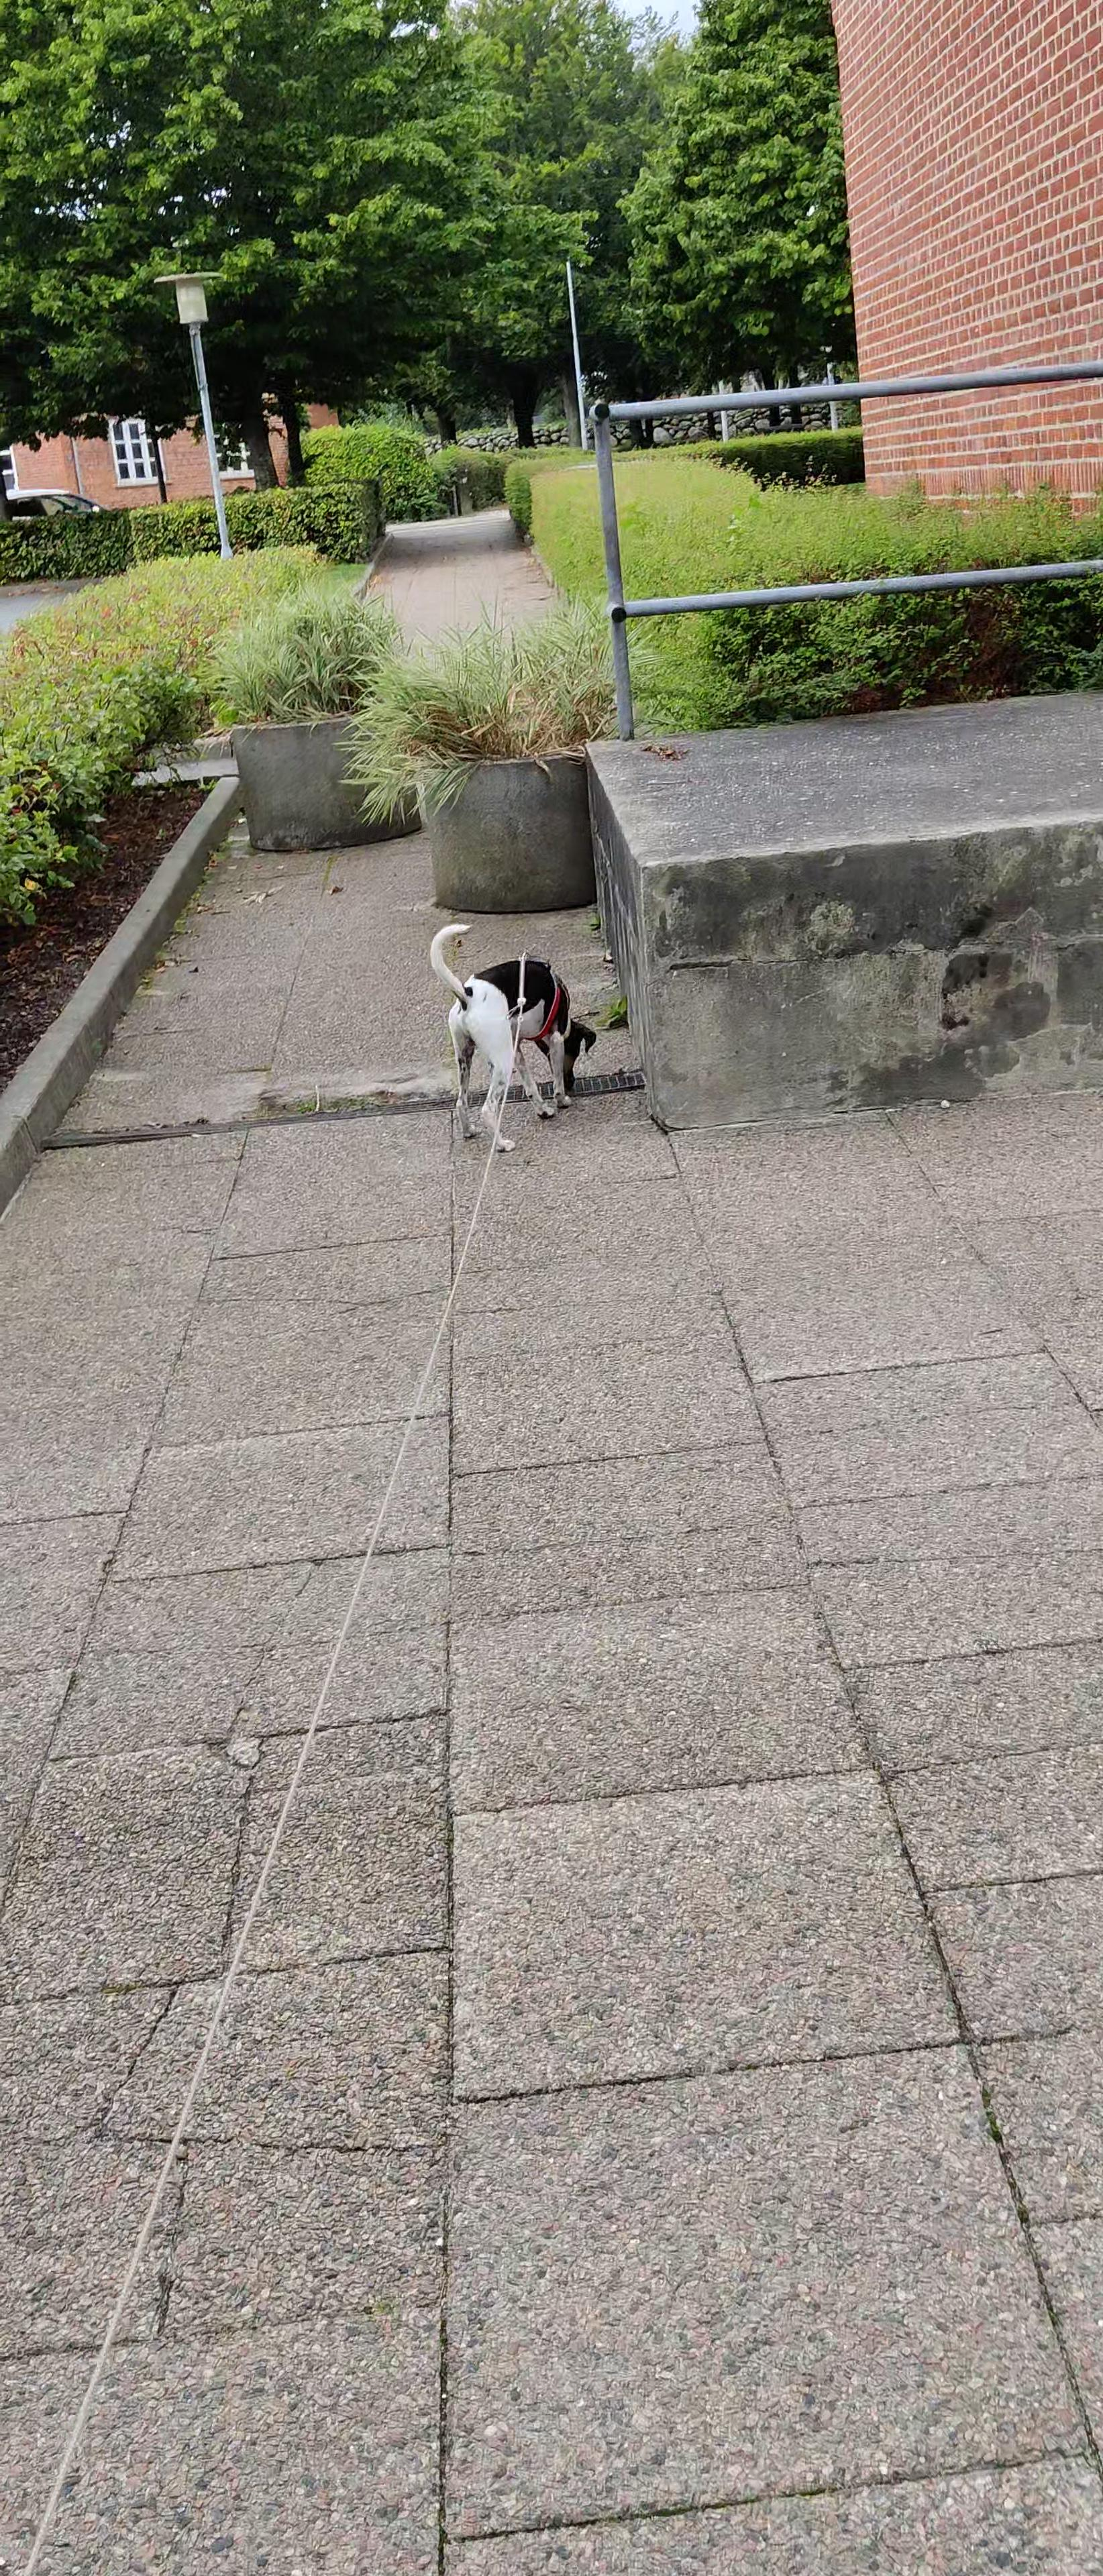Dog: (427, 922, 598, 1157)
